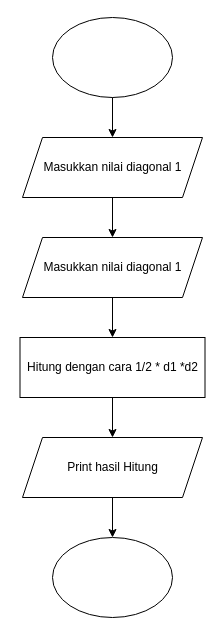
This 224x635 diagram has some shape labels left out. Each missing label, with the centre of its shape:
Mulai: the point at 112,57
Selesai: the point at 112,577
